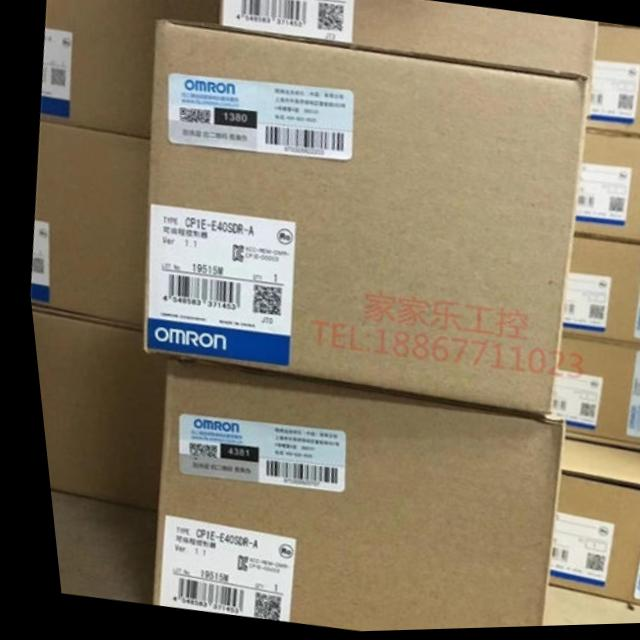box: (136, 21, 588, 419), (140, 354, 557, 633), (219, 0, 599, 83), (25, 303, 160, 513), (38, 0, 221, 140), (24, 118, 144, 330), (533, 441, 640, 613), (540, 340, 640, 458), (553, 238, 640, 353), (567, 132, 640, 249), (583, 30, 640, 139)
